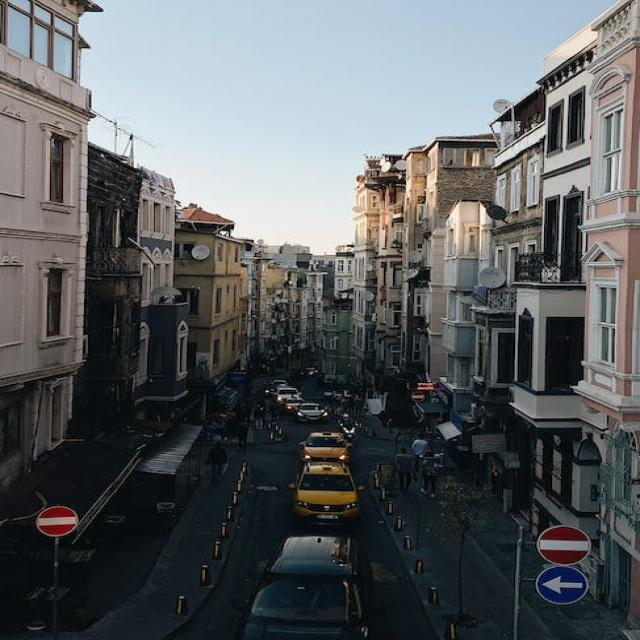no entry: (537, 525, 592, 567), (36, 506, 78, 537)
